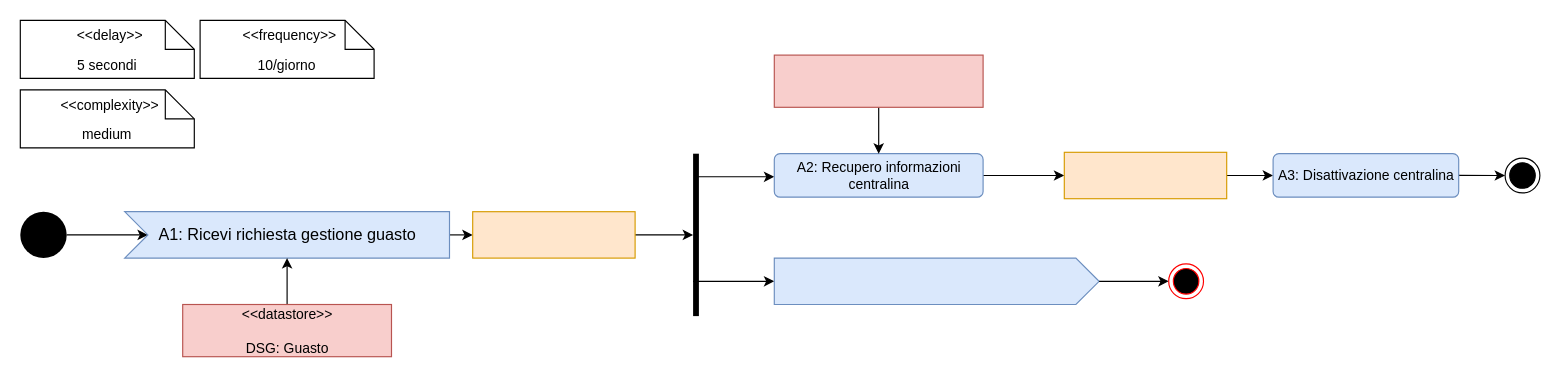
Some shapes in this 1560 by 377 pixel diagram are drawn without their labels. The centre of each missing label's shape, as x and y in pixels:
<<datastore>> DSC: Centralina: pixel 878 80
A4: Notifica richiesta selezione operatore: pixel 936 280
D1: Guasto: pixel 553 234
D2: Centralina: pixel 1145 175
